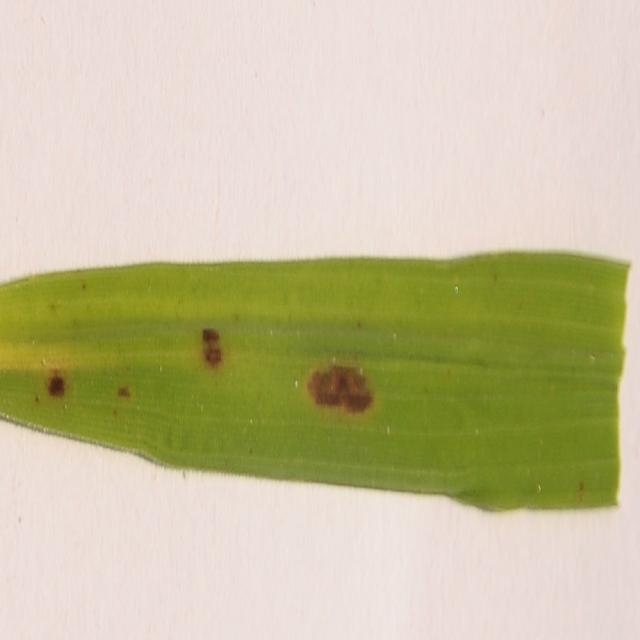brown spot: (302, 321, 386, 452), (192, 298, 233, 412), (34, 355, 74, 416), (114, 370, 134, 410)
